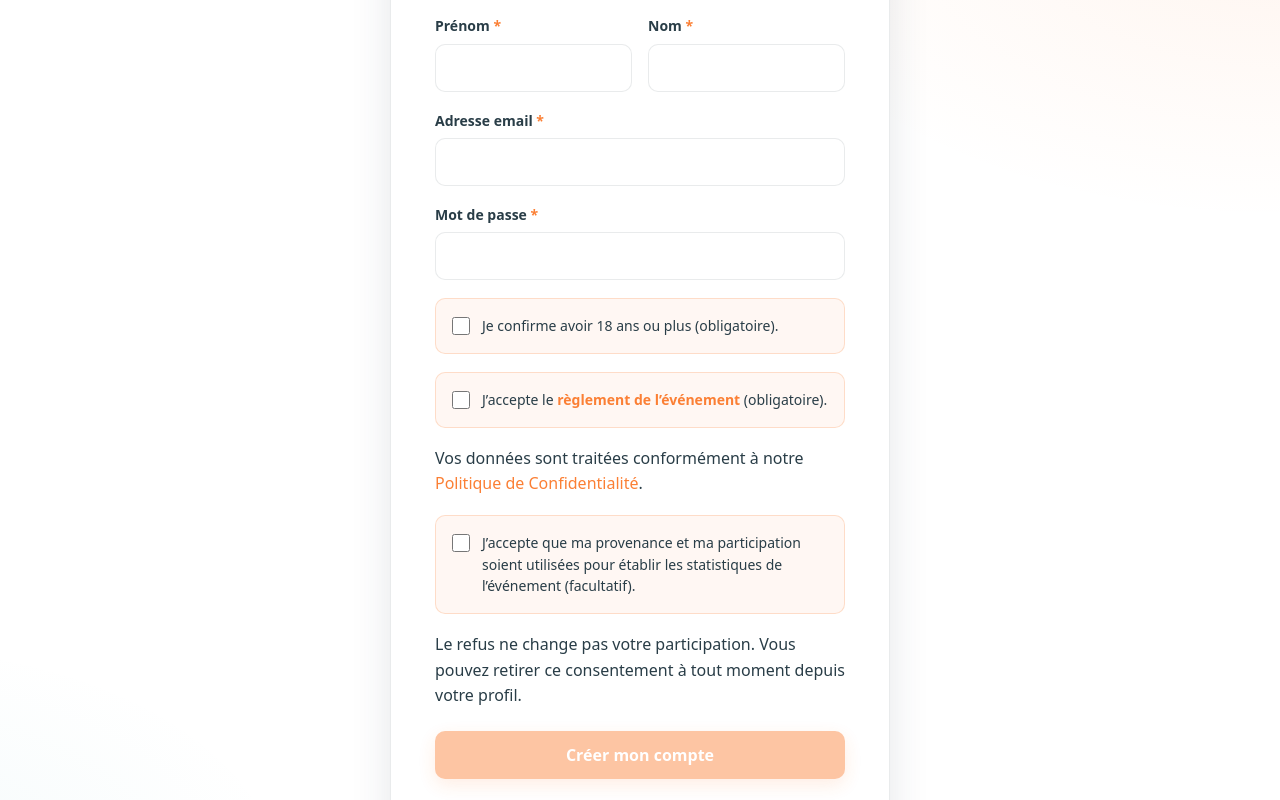
Test: RegisterPage › enables submit when consent checked
(page scrolled)
What coordinates should you click on to do the following:
click the checkbox labelled "J’accepte le règlement de l’événement (obligatoire)."
I would click on:
 (461, 400)
Its box is [452,391,470,409].
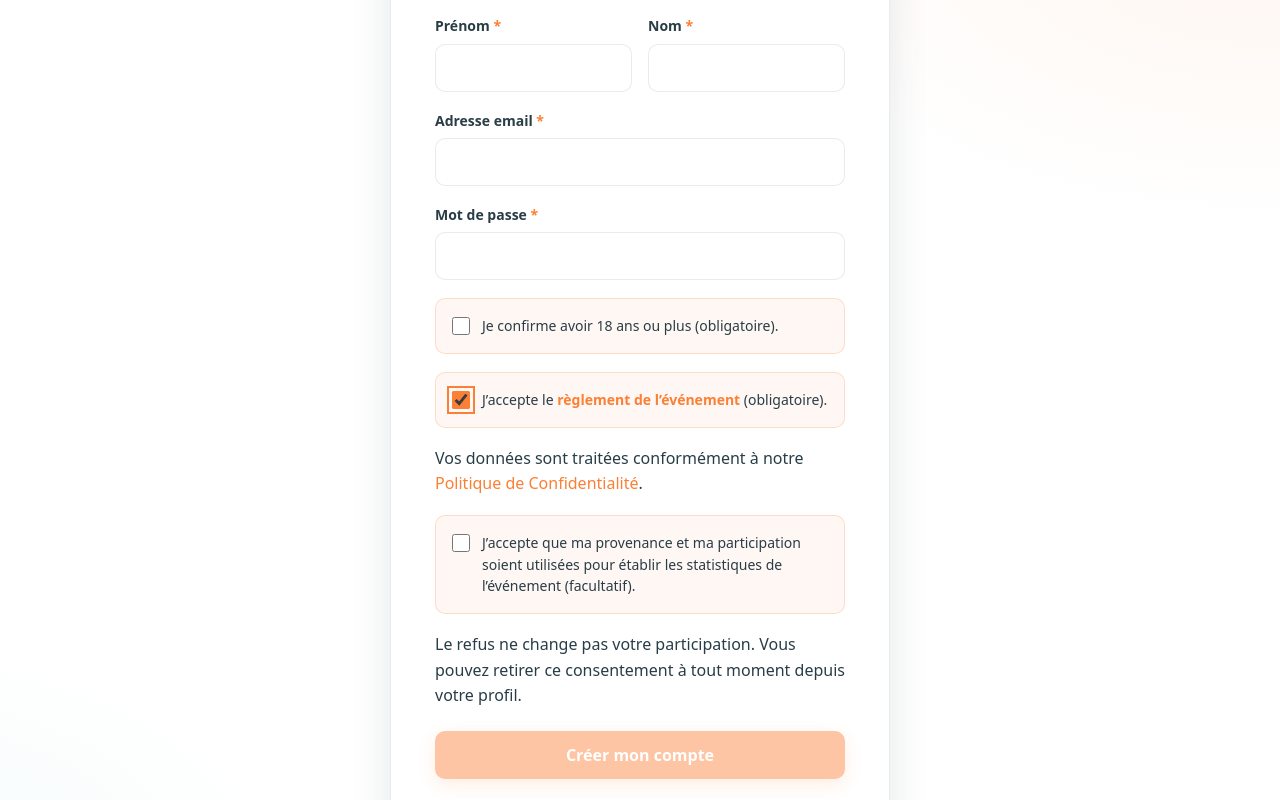
What coordinates should you click on to do the following:
click the checkbox labelled "Je confirme avoir 18 ans ou plus (obligatoire)."
I would click on:
 (461, 326)
Its box is [452,317,470,335].
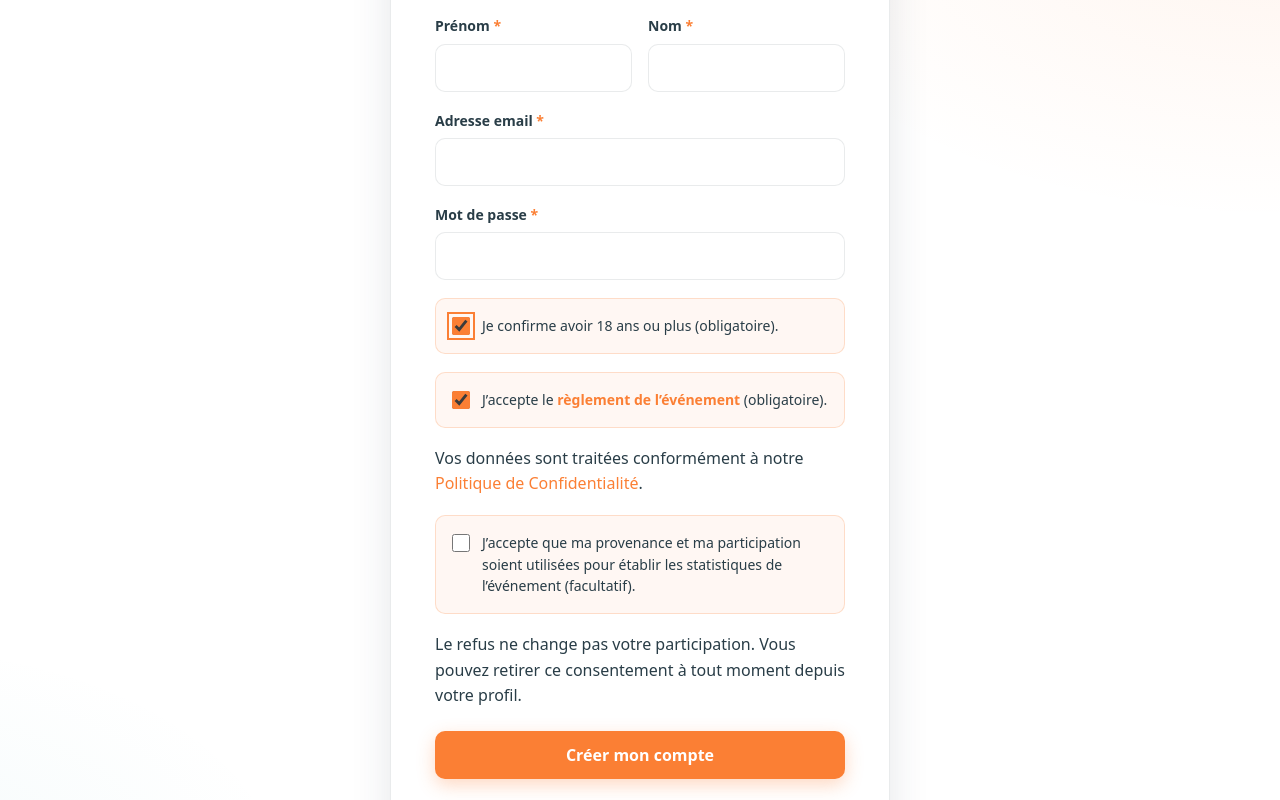
Check: the button "Créer mon compte" is enabled, box [435,731,845,779]
